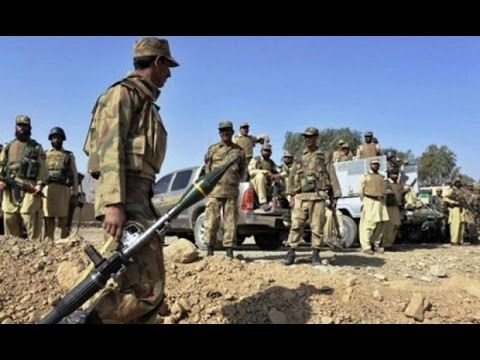gun: (31, 159, 262, 319), (317, 180, 354, 248), (2, 168, 47, 198)
uniform: (68, 43, 182, 309), (283, 120, 340, 256), (196, 120, 242, 246)
